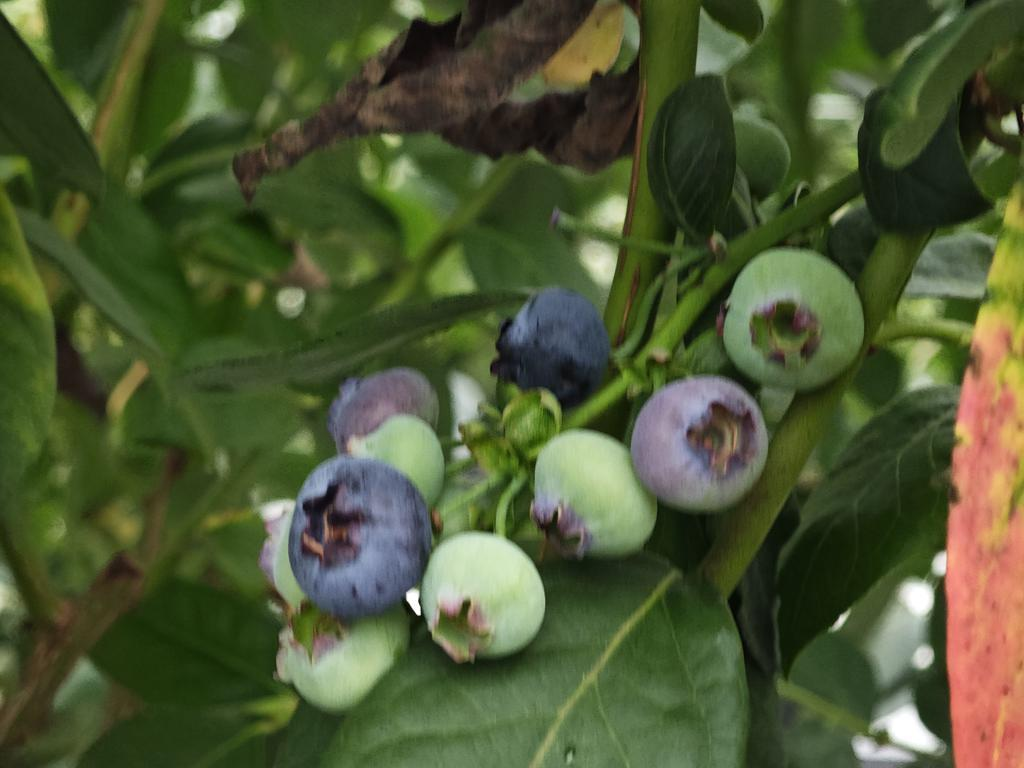RipeBlueBerry: (286, 455, 429, 620), (493, 285, 611, 399)
Semi-RipeBlueBerry: (631, 374, 773, 515)
UnripeBlueBerry: (718, 245, 867, 388), (423, 530, 548, 661), (534, 429, 659, 559)
